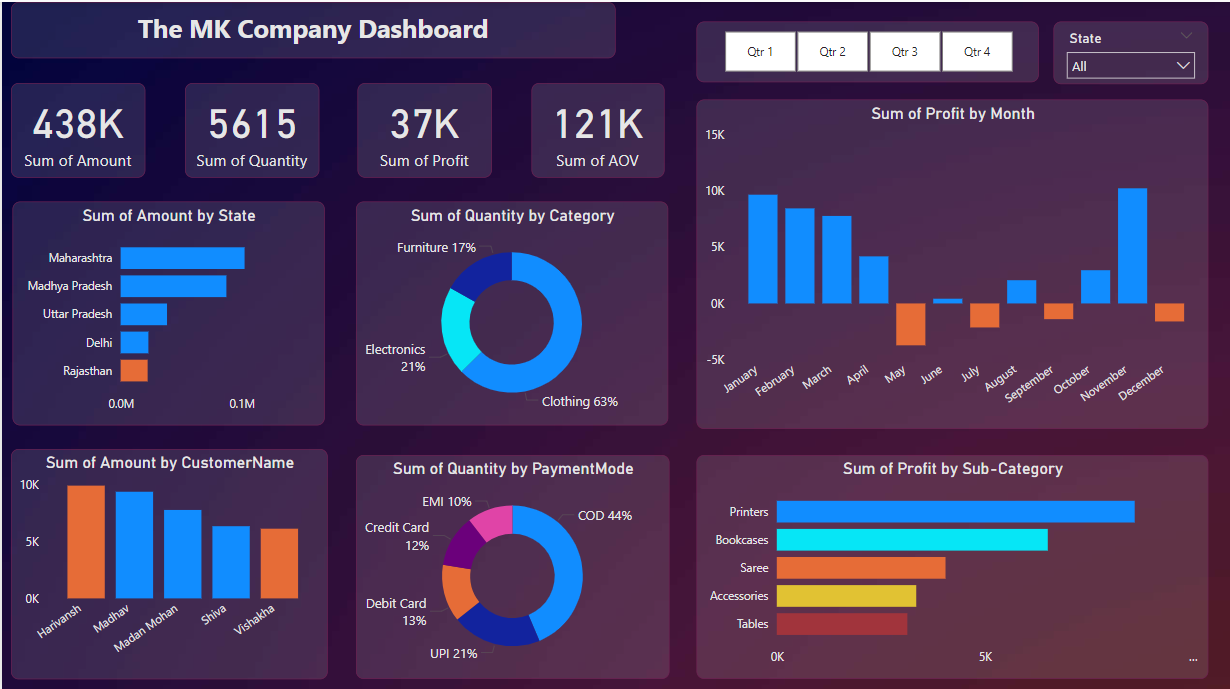

What the dashboard file says about the page in this screenshot:
{"tool":"powerbi","page":{"name":"Page 1","canvas":[1280,720],"ordinal":0},"visuals":[{"type":"textbox","box":[10,0,630,58.3],"z":0},{"type":"columnChart","fields":{"Category":["Orders.Order Date.Variation.Date Hierarchy.Month"],"Y":["Details.Profit"]},"box":[723.3,101.7,533.3,343.3],"z":1000},{"type":"barChart","fields":{"Category":["Details.Sub-Category"],"Y":["Details.Profit"]},"box":[723.3,471.7,533.3,233.3],"z":2000},{"type":"donutChart","fields":{"Category":["Details.Category"],"Y":["Details.Quantity"]},"box":[368.3,208.3,325,233.3],"z":3000},{"type":"donutChart","fields":{"Y":["Details.Quantity"],"Category":["Details.PaymentMode"]},"box":[368.3,471.7,326.7,233.3],"z":4000},{"type":"card","fields":{"Values":["Details.Amount"]},"box":[9.6,84.8,140,98.3],"z":5000},{"type":"card","fields":{"Values":["Details.Quantity"]},"box":[190,85,140,98.3],"z":6000},{"type":"card","fields":{"Values":["Details.Profit"]},"box":[370,85,140,98.3],"z":7000},{"type":"card","fields":{"Values":["Details.AOV"]},"box":[551.7,85,138.3,98.3],"z":8000},{"type":"barChart","fields":{"Category":["Orders.State"],"Y":["Details.Amount"]},"box":[11.7,208.3,325,233.3],"z":9000},{"type":"columnChart","fields":{"Category":["Orders.CustomerName"],"Y":["Details.Amount"]},"box":[10,465,330,240],"z":9001},{"type":"slicer","fields":{"Values":["Orders.Order Date.Variation.Date Hierarchy.Quarter"]},"box":[723.3,20,356.7,63.3],"z":9002},{"type":"slicer","fields":{"Values":["Orders.State"]},"box":[1095.6,20,161.1,65.6],"z":9003}]}

Visuals, with their boxes in screenshot pixels (x1, y1, x2, y2), scaled from the page's 1280x720 canvas onto the 1230x689 screenshot:
textbox: [left=10, top=0, right=615, bottom=56]
columnChart - Orders.Order Date.Variation.Date Hierarchy.Month x Details.Profit: [left=695, top=97, right=1208, bottom=426]
barChart - Details.Sub-Category x Details.Profit: [left=695, top=451, right=1208, bottom=675]
donutChart - Details.Category x Details.Quantity: [left=354, top=199, right=666, bottom=423]
donutChart - Details.Quantity x Details.PaymentMode: [left=354, top=451, right=668, bottom=675]
card - Details.Amount: [left=9, top=81, right=144, bottom=175]
card - Details.Quantity: [left=183, top=81, right=317, bottom=175]
card - Details.Profit: [left=356, top=81, right=490, bottom=175]
card - Details.AOV: [left=530, top=81, right=663, bottom=175]
barChart - Orders.State x Details.Amount: [left=11, top=199, right=324, bottom=423]
columnChart - Orders.CustomerName x Details.Amount: [left=10, top=445, right=327, bottom=675]
slicer - Orders.Order Date.Variation.Date Hierarchy.Quarter: [left=695, top=19, right=1038, bottom=80]
slicer - Orders.State: [left=1053, top=19, right=1208, bottom=82]
